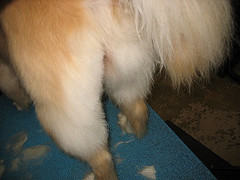dog: (1, 1, 234, 179)
